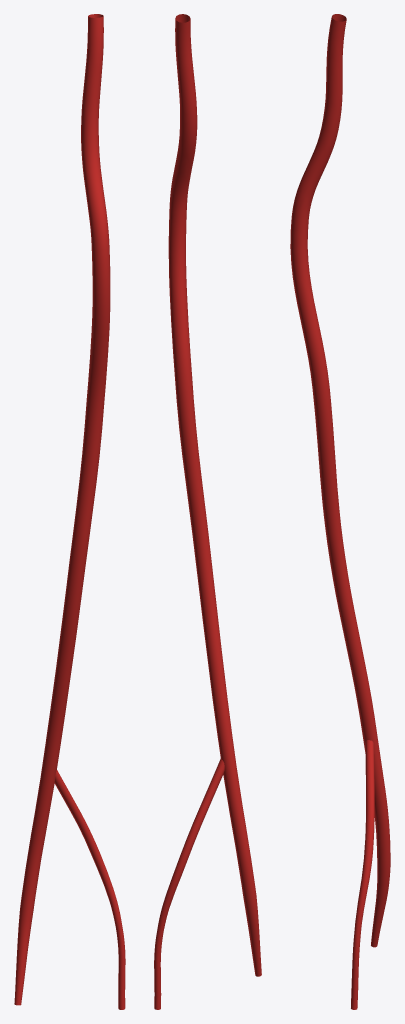
The model's file is circulatorio-superior-epigastric-artery-r.glb.
3 views of the same model, side by side, from view 1: azimuth 30°, elevation 25°; view 2: azimuth 210°, elevation 25°; view 3: azimuth 270°, elevation 25° (orthographic). The views are drawn at different scales.
Parts seen in each view (by area): view 1: Superior epigastric artery.r; view 2: Superior epigastric artery.r; view 3: Superior epigastric artery.r.
Boxes of the visible parts, x1,y1,x2,y2 form: Superior epigastric artery.r: [14, 14, 125, 1009]; Superior epigastric artery.r: [154, 14, 261, 1009]; Superior epigastric artery.r: [290, 14, 390, 1009].
Size of the model in its own units: 0.0169 by 0.1621 by 0.0151.
